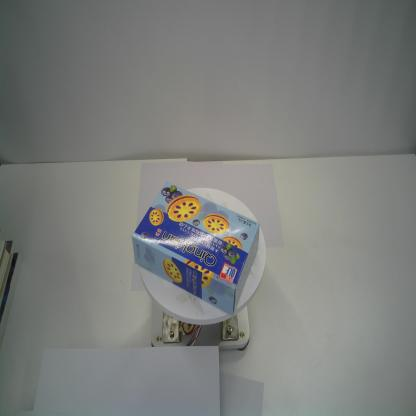Dessert: (130, 182, 262, 316)
